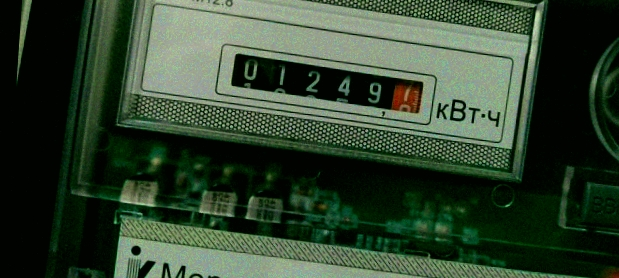0: (241, 55, 260, 82)
1: (273, 60, 288, 87)
2: (302, 68, 321, 95)
4: (335, 71, 353, 97)
7: (399, 76, 416, 103)
9: (364, 78, 382, 105)
screen: (212, 41, 440, 129)
